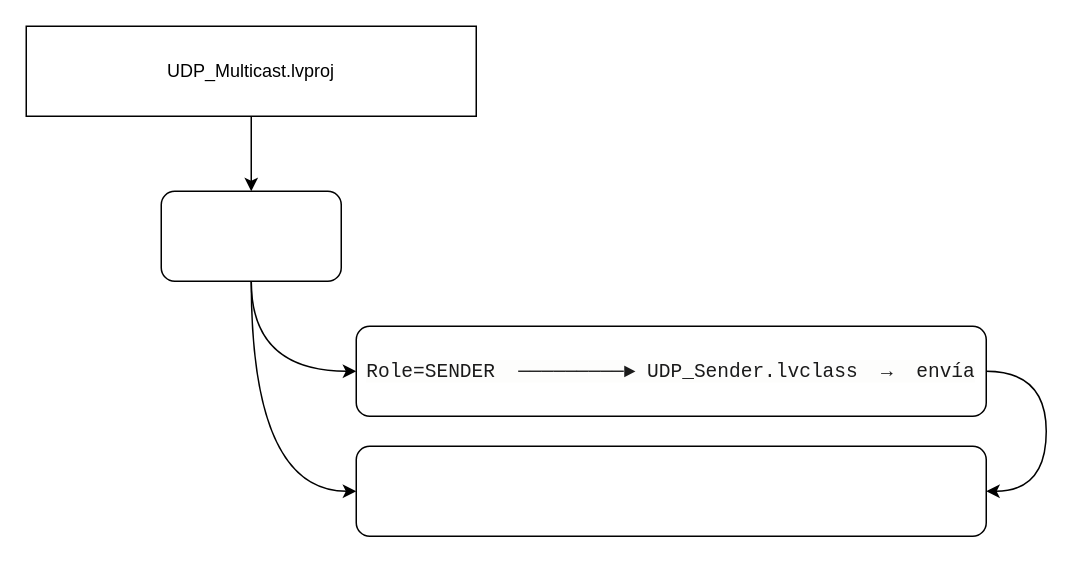
The diagram is 1073 pixels wide and 563 high, and some of its shapes have lost their labels. Here are the shapes that lost their labels. From the top down, the centre of each, then its label:
At point 250,235: "udp_comm.ini".
At point 670,490: "Role=RECEIVER ────────► UDP_Receiver.lvclass → escucha".
